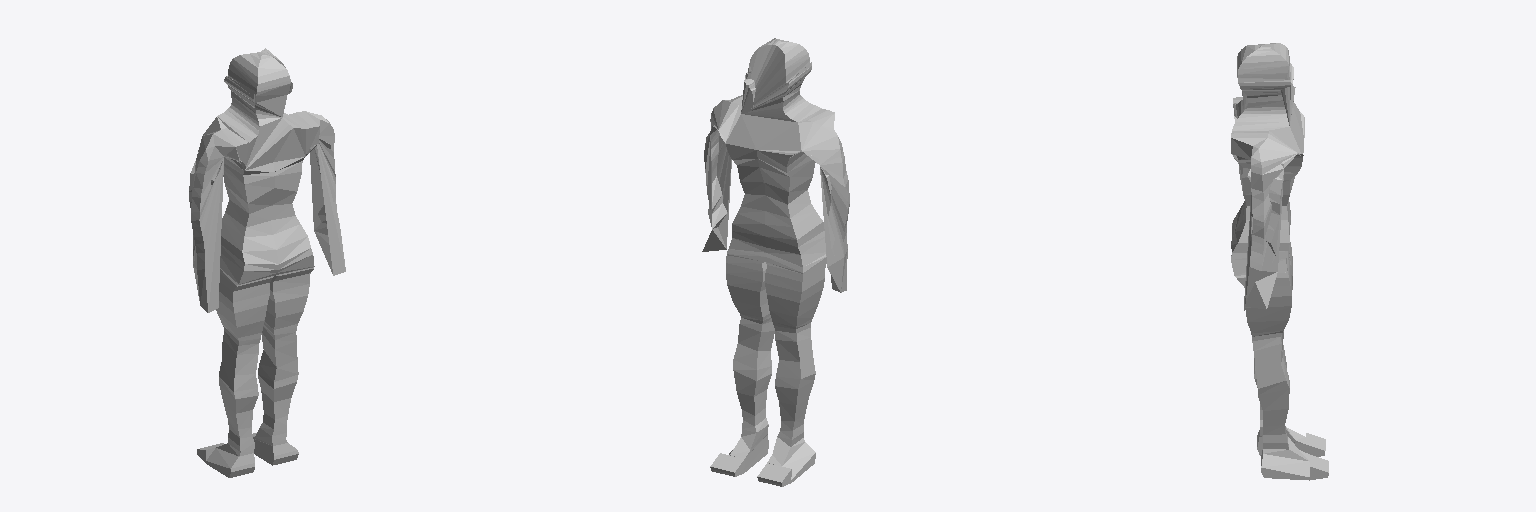
The model's file is woman_000043.obj.
3 views of the same model, side by side, from view 1: azimuth 30°, elevation 25°; view 2: azimuth 150°, elevation 25°; view 3: azimuth 270°, elevation 25° (orthographic).
Parts seen in each view (by area): view 1: Cube_Cube.001; view 2: Cube_Cube.001; view 3: Cube_Cube.001.
Boxes of the visible parts, box(x1,y1,x2,y2) form: Cube_Cube.001: box(189, 48, 345, 477); Cube_Cube.001: box(702, 38, 849, 486); Cube_Cube.001: box(1231, 43, 1328, 480).
Bounding box in the file's own units: 3.62 × 9.98 × 2.13.